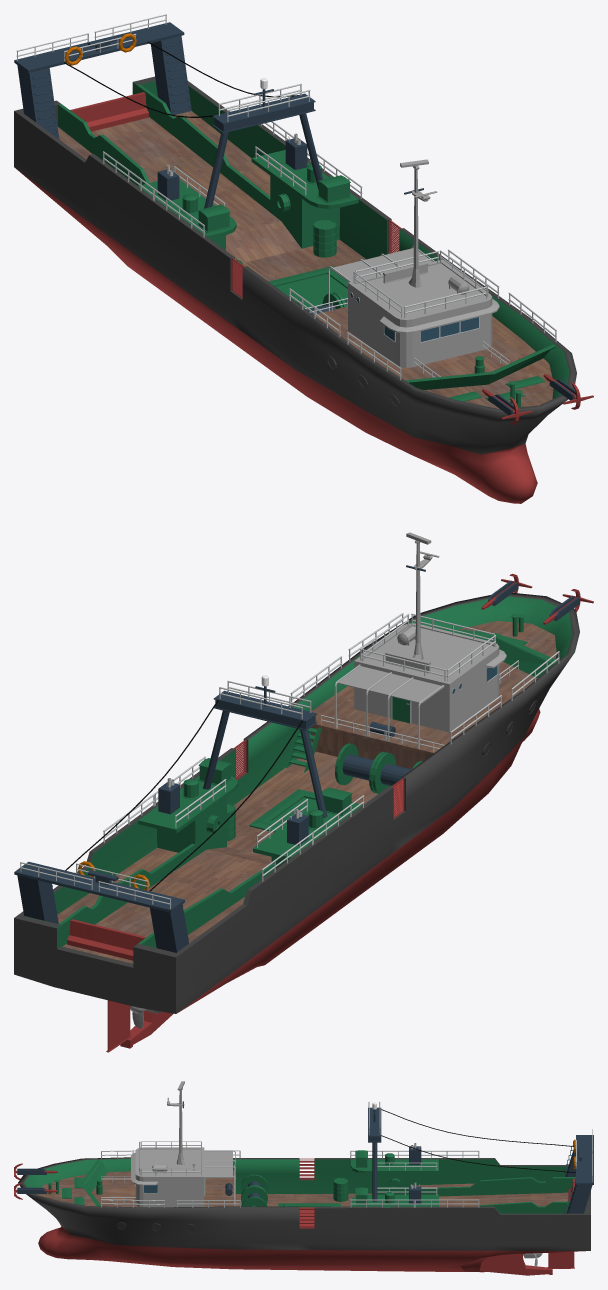
File: Fishingboat.glb
3 renders of one model, top to bottom at view 1: azimuth 30°, elevation 25°; view 2: azimuth 150°, elevation 25°; view 3: azimuth 270°, elevation 25°, orthographic. The views are drawn at different scales.
Visible parts, largest first — view 1: Fishing_BoatC_01, Fishing_BoatC_02; view 2: Fishing_BoatC_01, Fishing_BoatC_02; view 3: Fishing_BoatC_01, Fishing_BoatC_02.
Boxes of the visible parts, bbox=[...] form: Fishing_BoatC_01: bbox=[14, 14, 593, 503]; Fishing_BoatC_02: bbox=[328, 159, 499, 367]; Fishing_BoatC_01: bbox=[14, 573, 593, 1052]; Fishing_BoatC_02: bbox=[334, 532, 506, 749]; Fishing_BoatC_01: bbox=[14, 1101, 593, 1275]; Fishing_BoatC_02: bbox=[131, 1081, 235, 1207].
Bounding box in the file's own units: 8.61 × 14.6 × 40.72.
2 materials, 2 textured.
